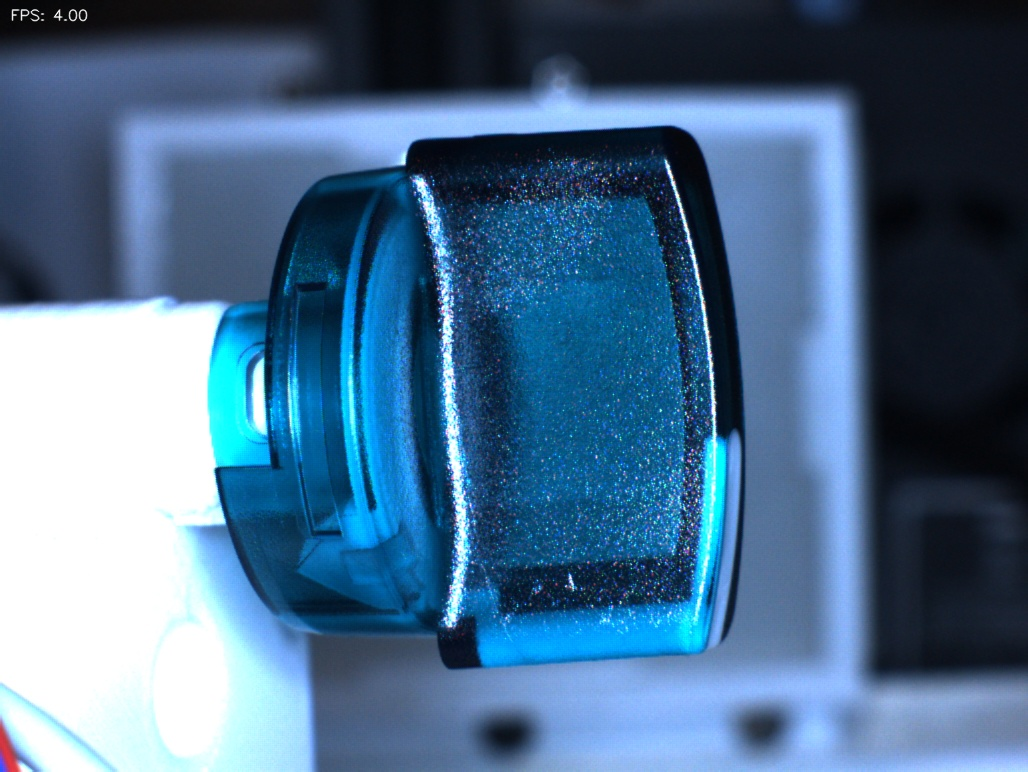Givrage: (552, 552, 628, 638)
